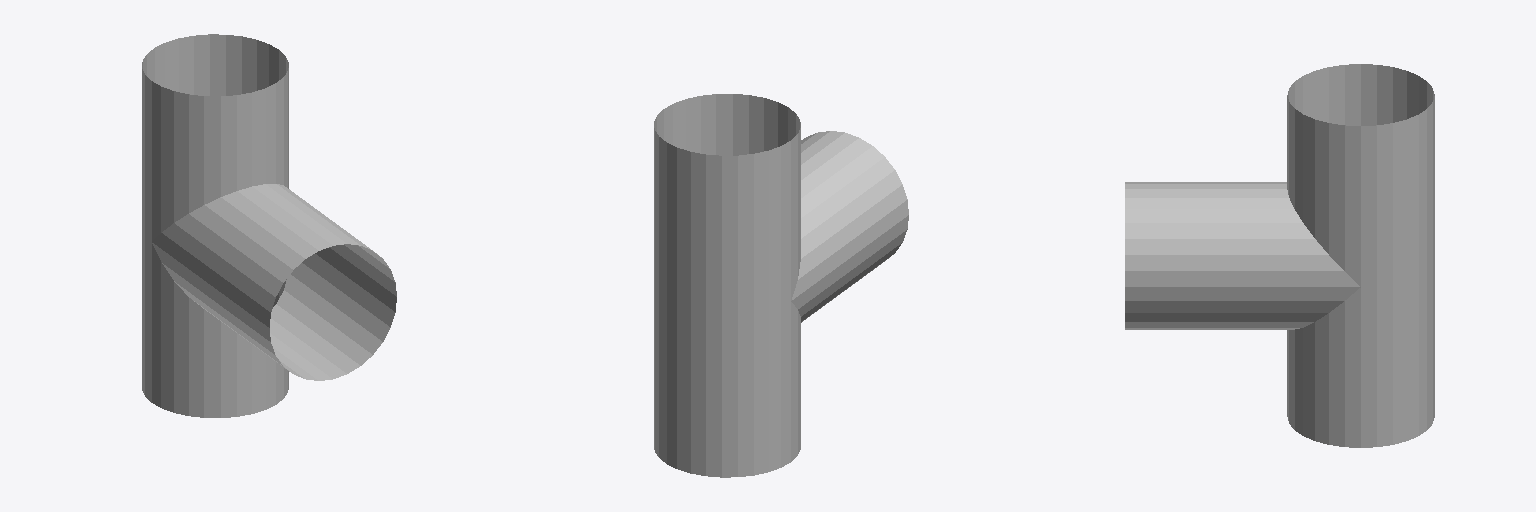
Rendered from T_JUNCTION_001.obj.
The picture shows the model from 3 angles: view 1: azimuth 30°, elevation 25°; view 2: azimuth 150°, elevation 25°; view 3: azimuth 270°, elevation 25°; orthographic projection.
Parts seen in each view (by area): view 1: T_JUNCTION.001; view 2: T_JUNCTION.001; view 3: T_JUNCTION.001.
Boxes of the visible parts, x1,y1,x2,y2 form: T_JUNCTION.001: [142, 34, 396, 417]; T_JUNCTION.001: [654, 94, 908, 477]; T_JUNCTION.001: [1125, 64, 1434, 447].
Bounding box in the file's own units: 3.18 × 7.66 × 6.67.